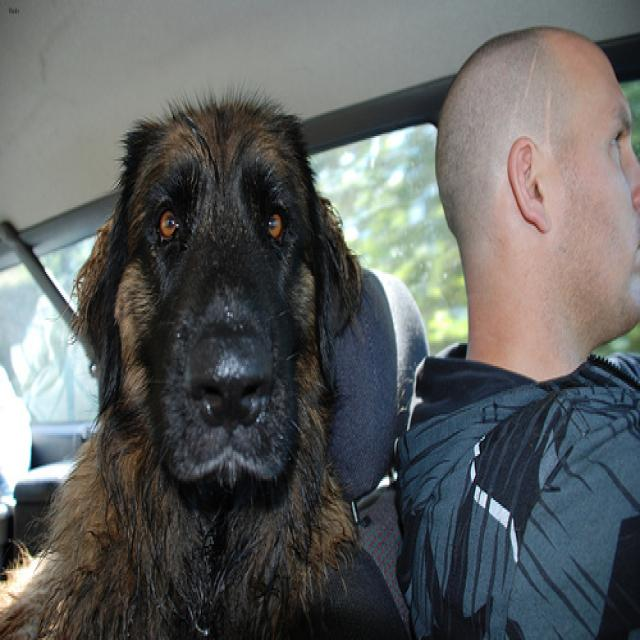dog-leonberger: (1, 84, 370, 636)
